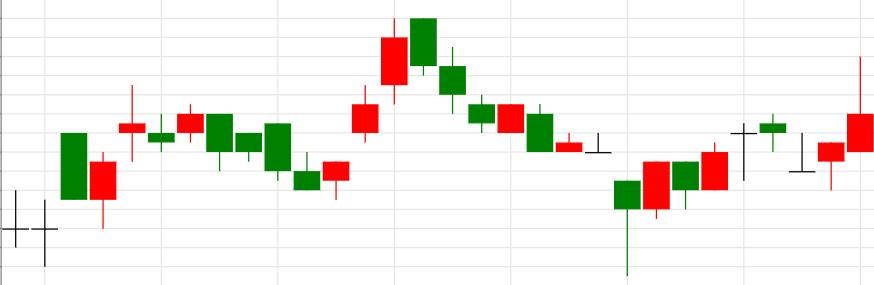hammer_rise: (409, 18, 642, 276)
